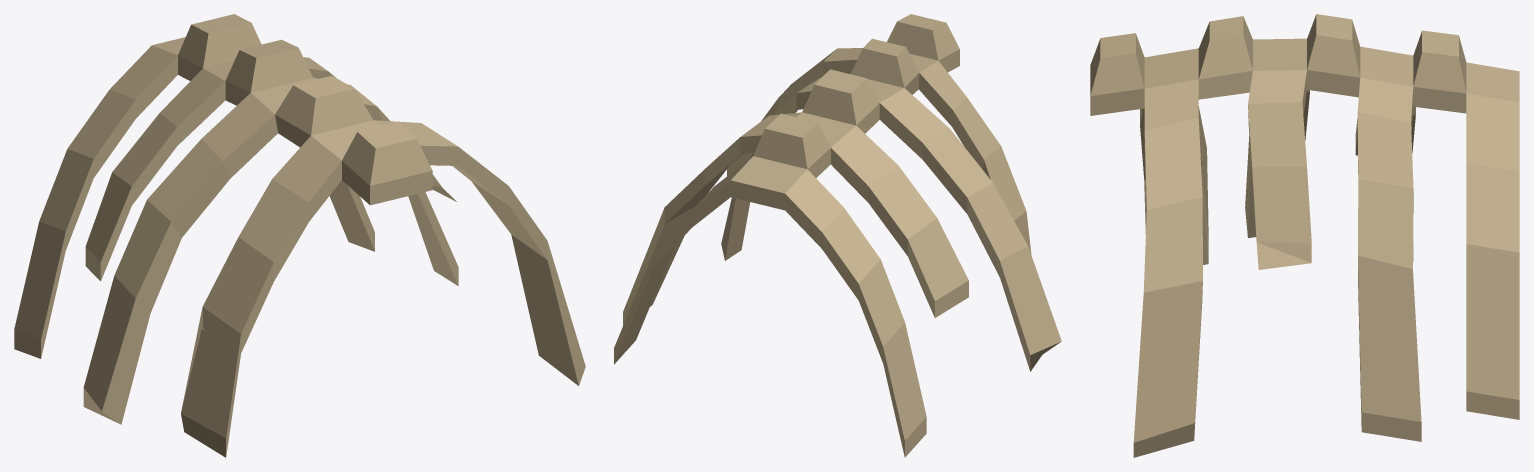
Rendered from DesertBones2.glb.
3 renders of one model, left to right at view 1: azimuth 30°, elevation 25°; view 2: azimuth 150°, elevation 25°; view 3: azimuth 270°, elevation 25°, orthographic. The views are drawn at different scales.
Visible parts, largest first — view 1: DesertBones; view 2: DesertBones; view 3: DesertBones.
Part boxes in pixels (bbox=[...]): DesertBones: bbox=[14, 14, 585, 457]; DesertBones: bbox=[614, 14, 1061, 457]; DesertBones: bbox=[1090, 14, 1519, 457].
Bounding box in the file's own units: 1.82 × 1.33 × 1.54.
Materials: 1 (1 with a texture image).
